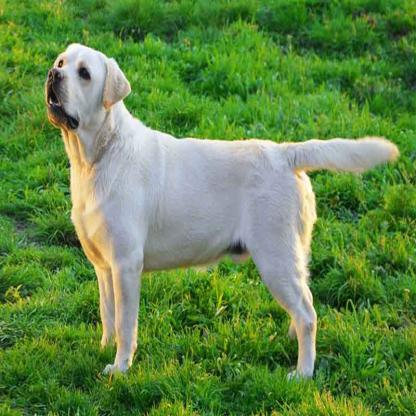dog: (41, 45, 398, 379)
